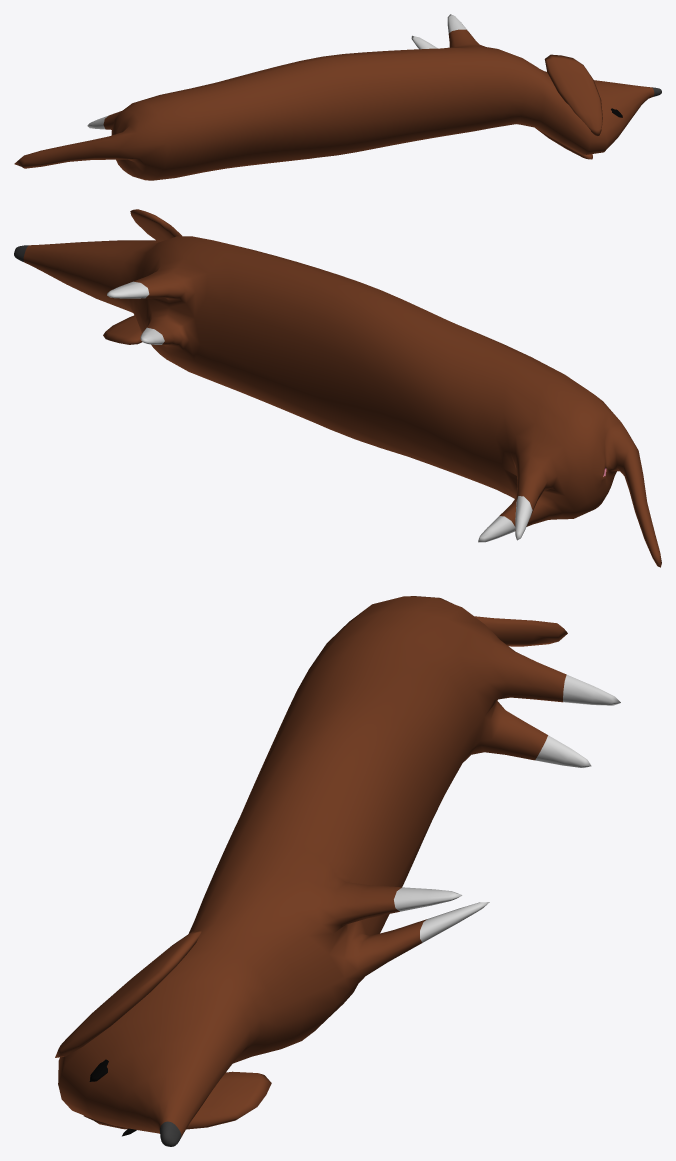
File: ween_medium_toppled.fbx
The picture shows the model from 3 angles, top to bottom: view 1: azimuth 30°, elevation 25°; view 2: azimuth 150°, elevation 25°; view 3: azimuth 270°, elevation 25°; orthographic projection. The views are drawn at different scales.
Parts seen in each view (by area): view 1: ween_medium_toppled; view 2: ween_medium_toppled; view 3: ween_medium_toppled.
Part boxes in pixels (box(x1,y1,x2,y2)): ween_medium_toppled: box(14, 14, 661, 180); ween_medium_toppled: box(14, 209, 661, 567); ween_medium_toppled: box(55, 596, 620, 1146).
Size of the model in its own units: 236 by 528 by 97.28.
